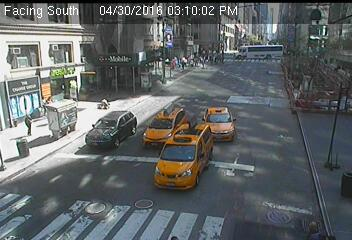neg: (282, 106, 347, 193), (46, 139, 99, 210), (27, 7, 68, 61), (226, 161, 259, 205), (259, 62, 292, 106), (72, 2, 105, 46), (182, 129, 210, 167), (131, 14, 155, 46), (133, 106, 153, 132), (184, 3, 201, 25)
pos: (31, 91, 51, 118)
